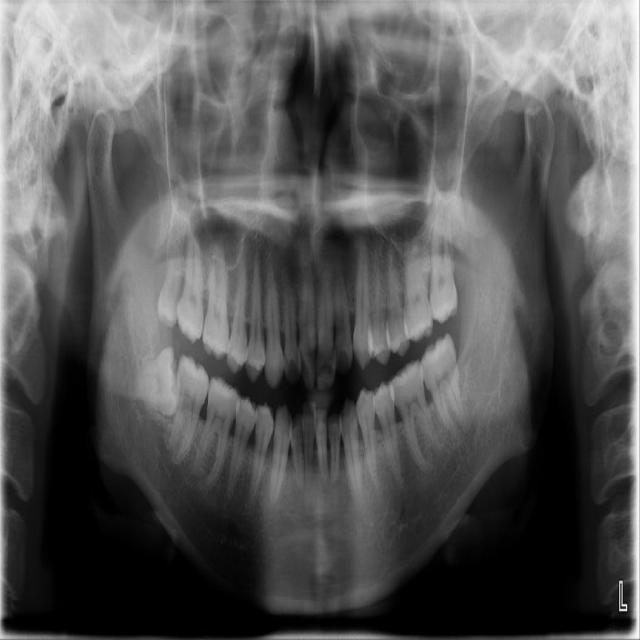impacted tooth: (122, 345, 177, 416), (158, 220, 184, 325)
